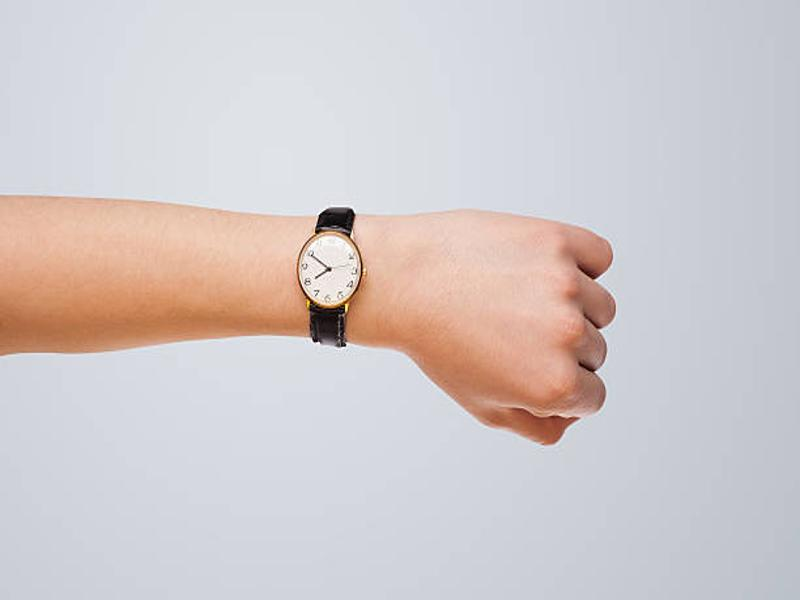watch: (297, 205, 369, 352)
